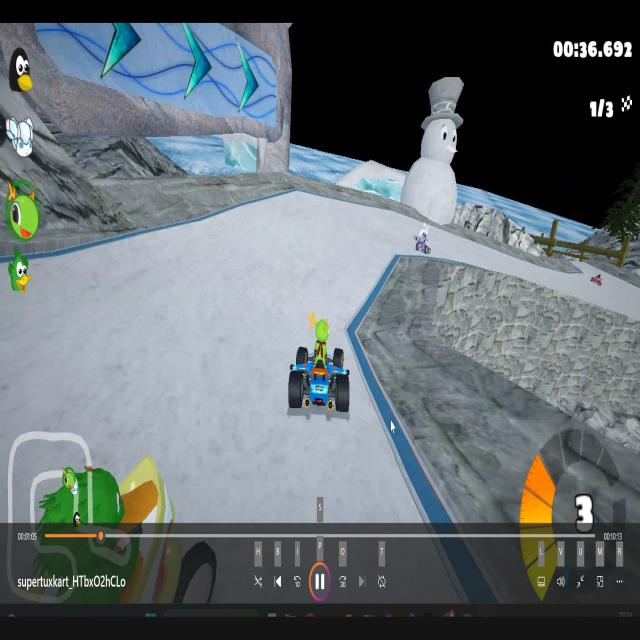enemy_kart: (588, 270, 604, 286)
player_kart: (287, 317, 351, 431), (414, 228, 435, 253)
track: (2, 263, 285, 537), (143, 237, 373, 283), (286, 426, 366, 525), (249, 204, 366, 240), (366, 445, 402, 529), (287, 286, 361, 314), (366, 210, 413, 253), (586, 286, 638, 314), (352, 376, 374, 426), (443, 233, 473, 260), (476, 254, 514, 274), (198, 222, 247, 234), (516, 262, 545, 281), (474, 240, 498, 258), (549, 274, 570, 291), (572, 271, 585, 297), (570, 255, 588, 270), (608, 274, 620, 287), (544, 268, 553, 284)
